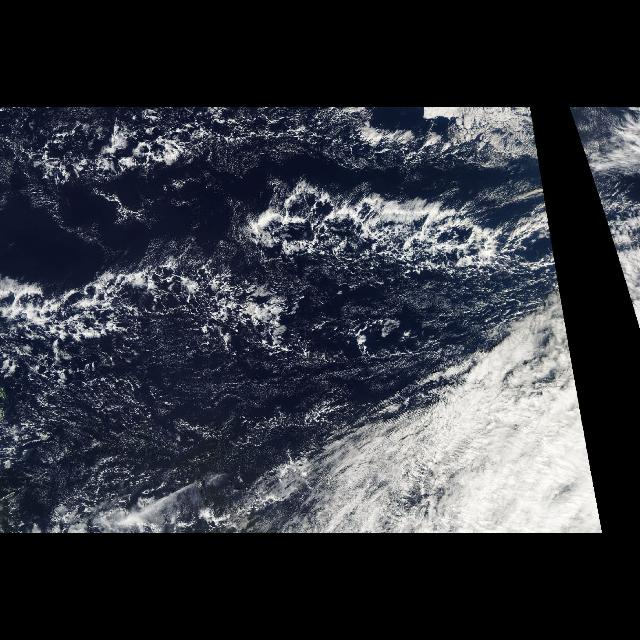Fish: (4, 114, 516, 370)
Gravel: (22, 110, 256, 188)
Sugar: (4, 316, 432, 468)
